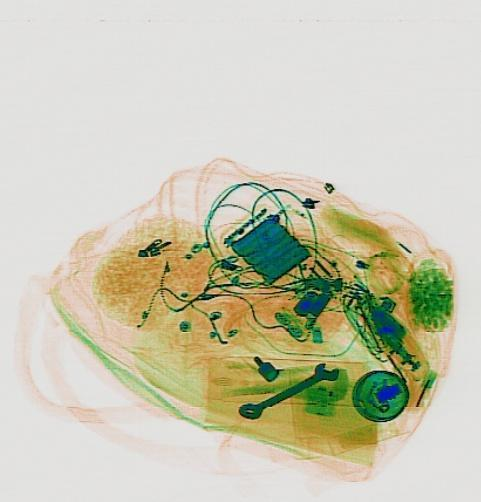Wrench: (234, 356, 342, 425)
